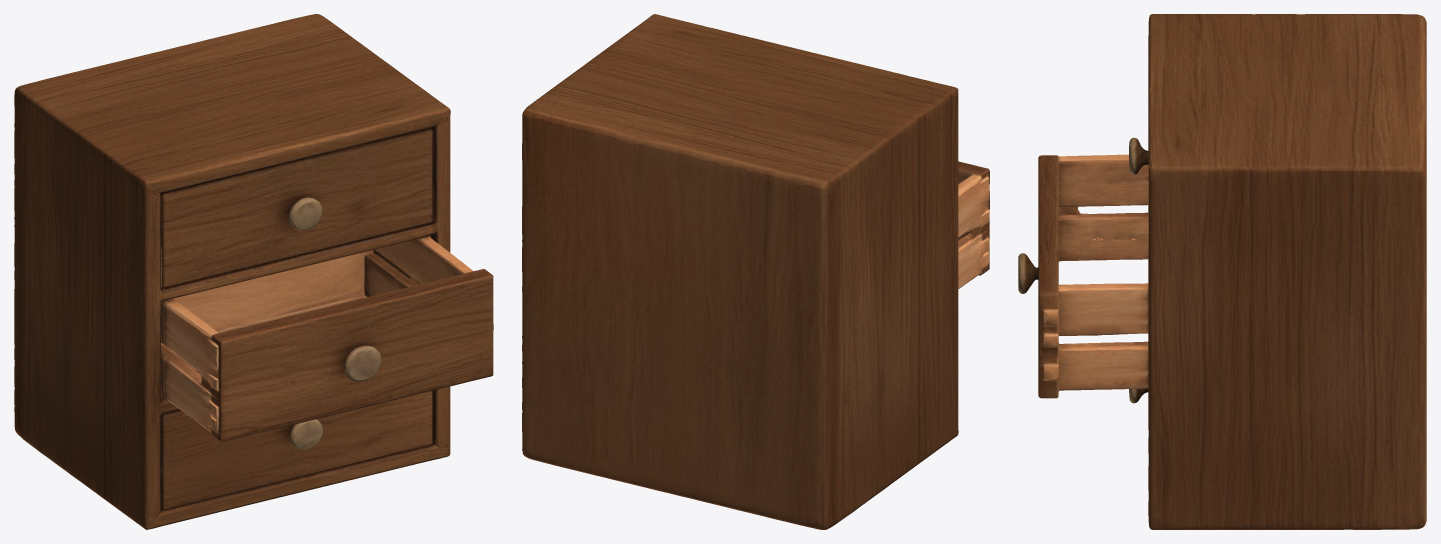
File: parts.glb
3 renders of one model, left to right at view 1: azimuth 30°, elevation 25°; view 2: azimuth 150°, elevation 25°; view 3: azimuth 270°, elevation 25°, orthographic. The views are drawn at different scales.
Size of the model in its own units: 0.5045 by 0.55 by 0.5598.
Materials: 4 (4 with a texture image).
